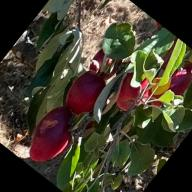Apples: (18, 99, 86, 170), (58, 66, 112, 122), (108, 67, 158, 119), (85, 45, 124, 84), (162, 58, 192, 99), (144, 81, 171, 109)
